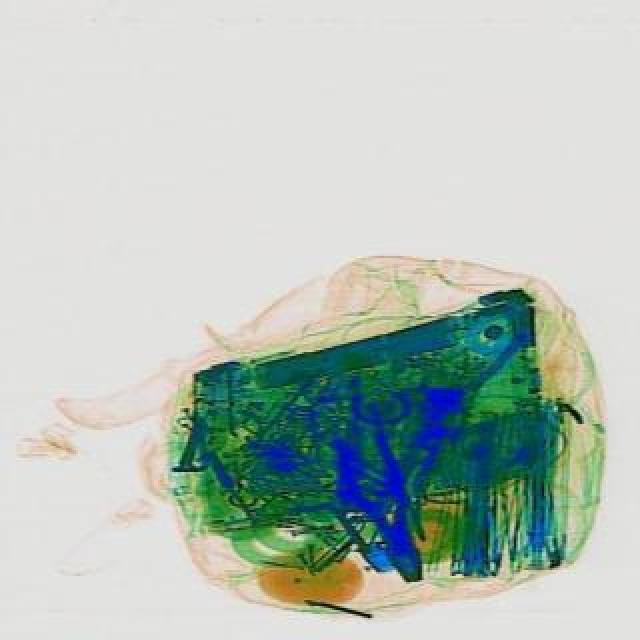wrench: (328, 422, 436, 588)
